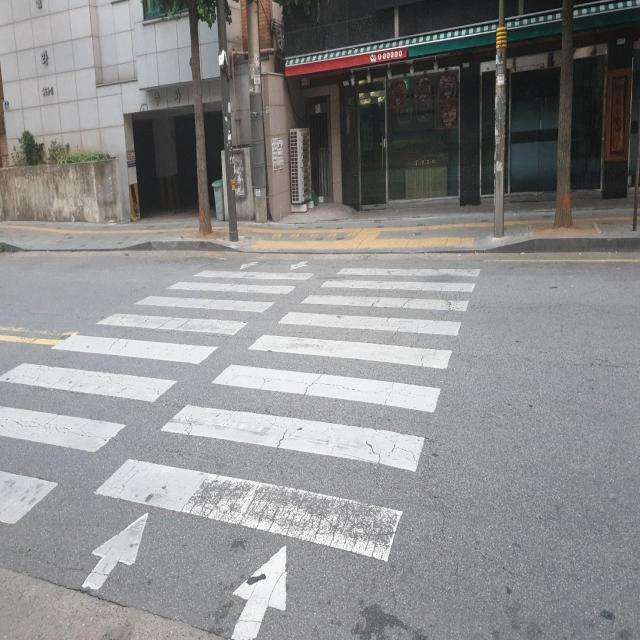횡단보도: (0, 258, 482, 640)
